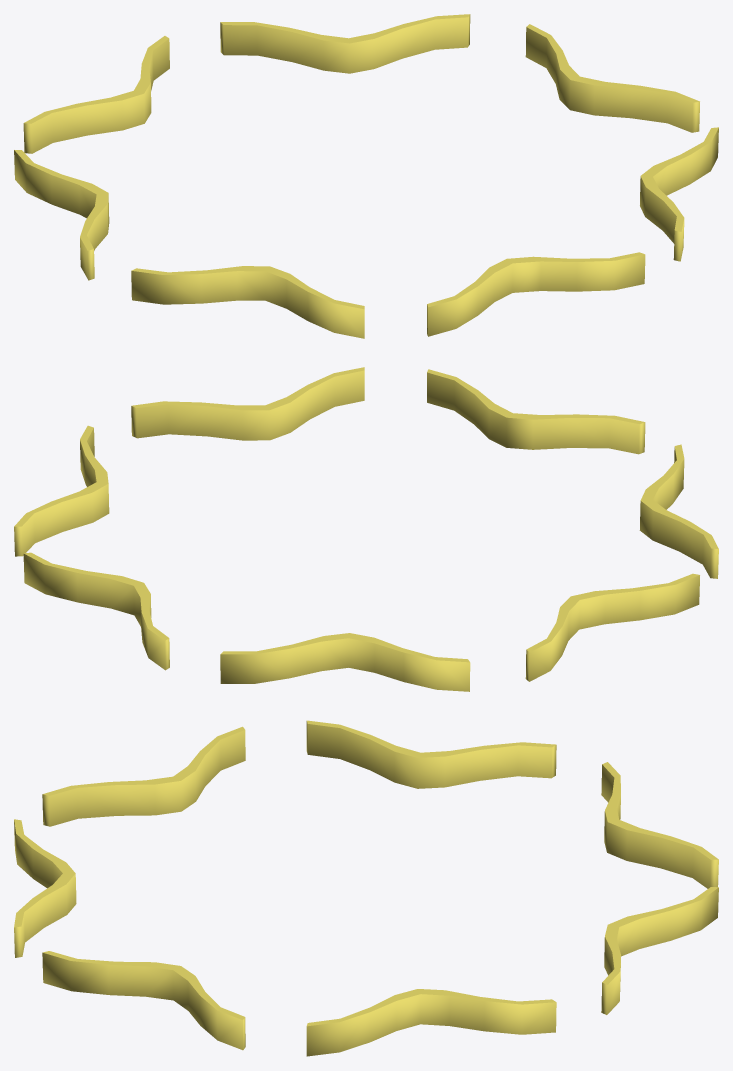
File: DividersThin.fbx
The picture shows the model from 3 angles, top to bottom: view 1: azimuth 30°, elevation 25°; view 2: azimuth 150°, elevation 25°; view 3: azimuth 270°, elevation 25°; orthographic projection. The views are drawn at different scales.
Parts seen in each view (by area): view 1: Dividers; view 2: Dividers; view 3: Dividers.
Part boxes in pixels (box(x1,y1,x2,y2)): Dividers: box(14, 14, 718, 338); Dividers: box(14, 367, 718, 691); Dividers: box(14, 720, 718, 1056).
Size of the model in its own units: 11127 by 519 by 10835.
